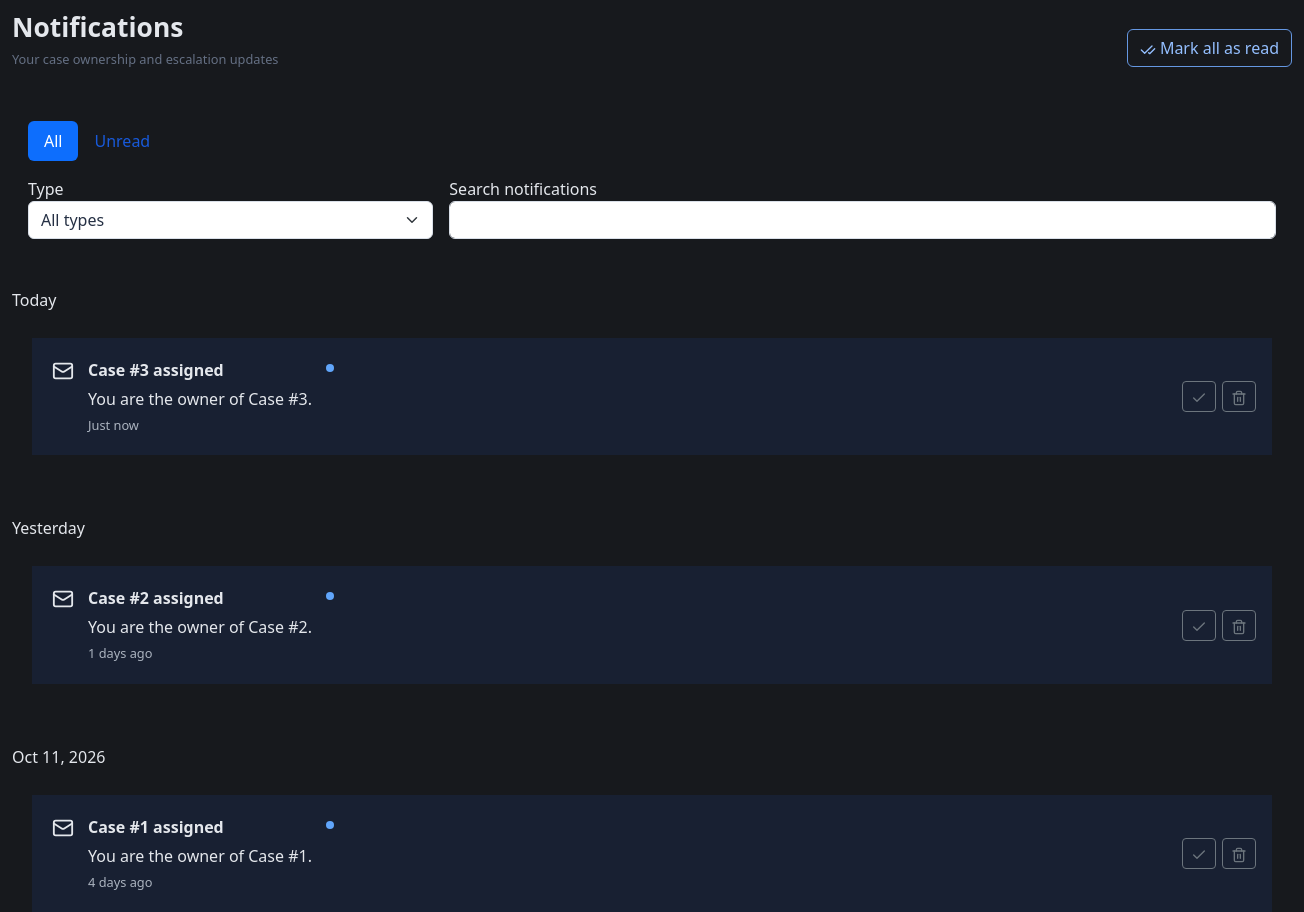
Scenario: supports read, unread and dismiss without navigating
This screenshot has width=1304, height=912.
Expected: the text "Case #3 assigned" is shown, [88,359,224,381]
Click the button named "Mark read: Case #3 assigned": point(1199, 397) [1182,381,1216,412]
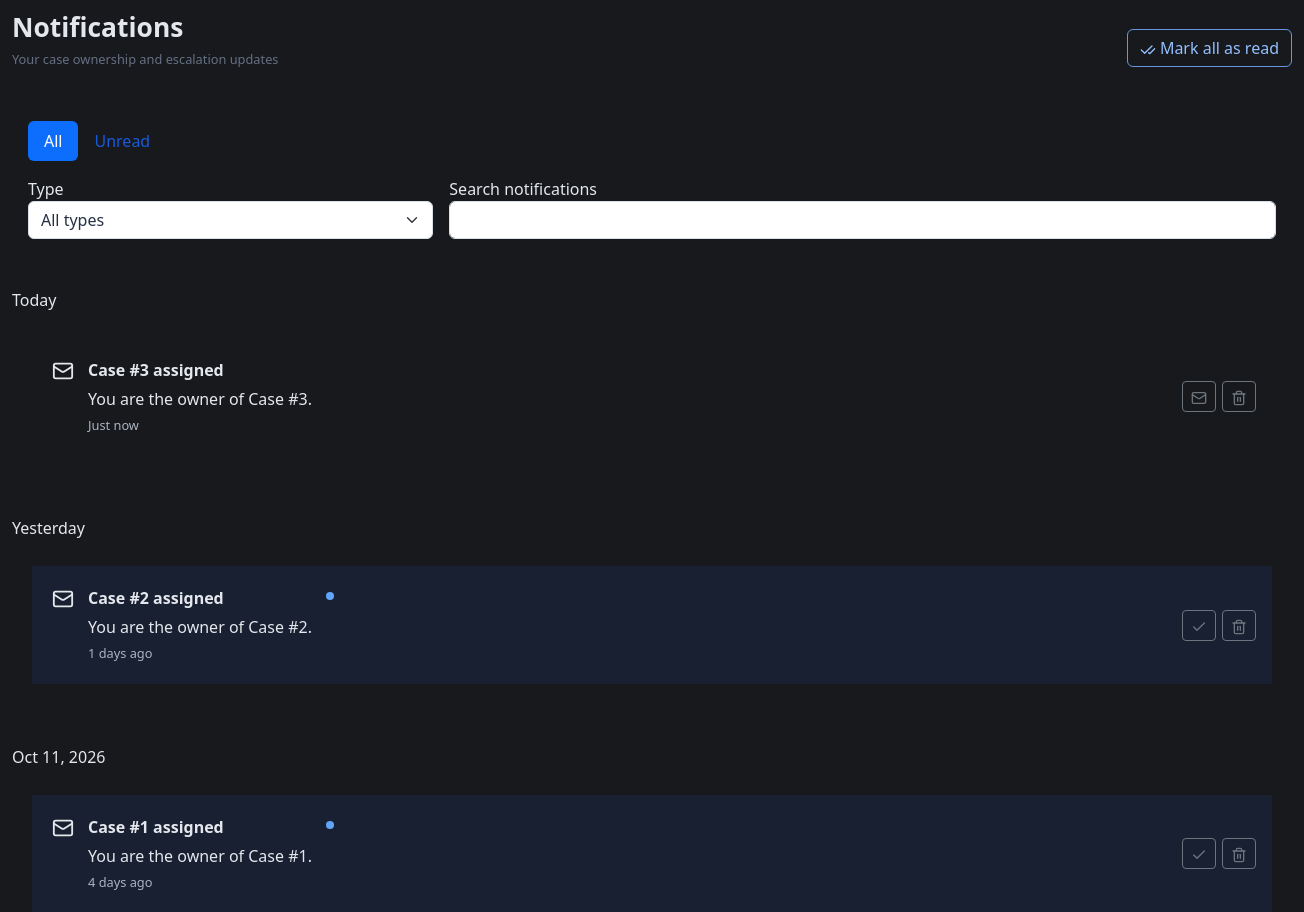
Click the button named "Mark unread: Case #3 assigned": point(1199, 397) [1182,381,1216,412]
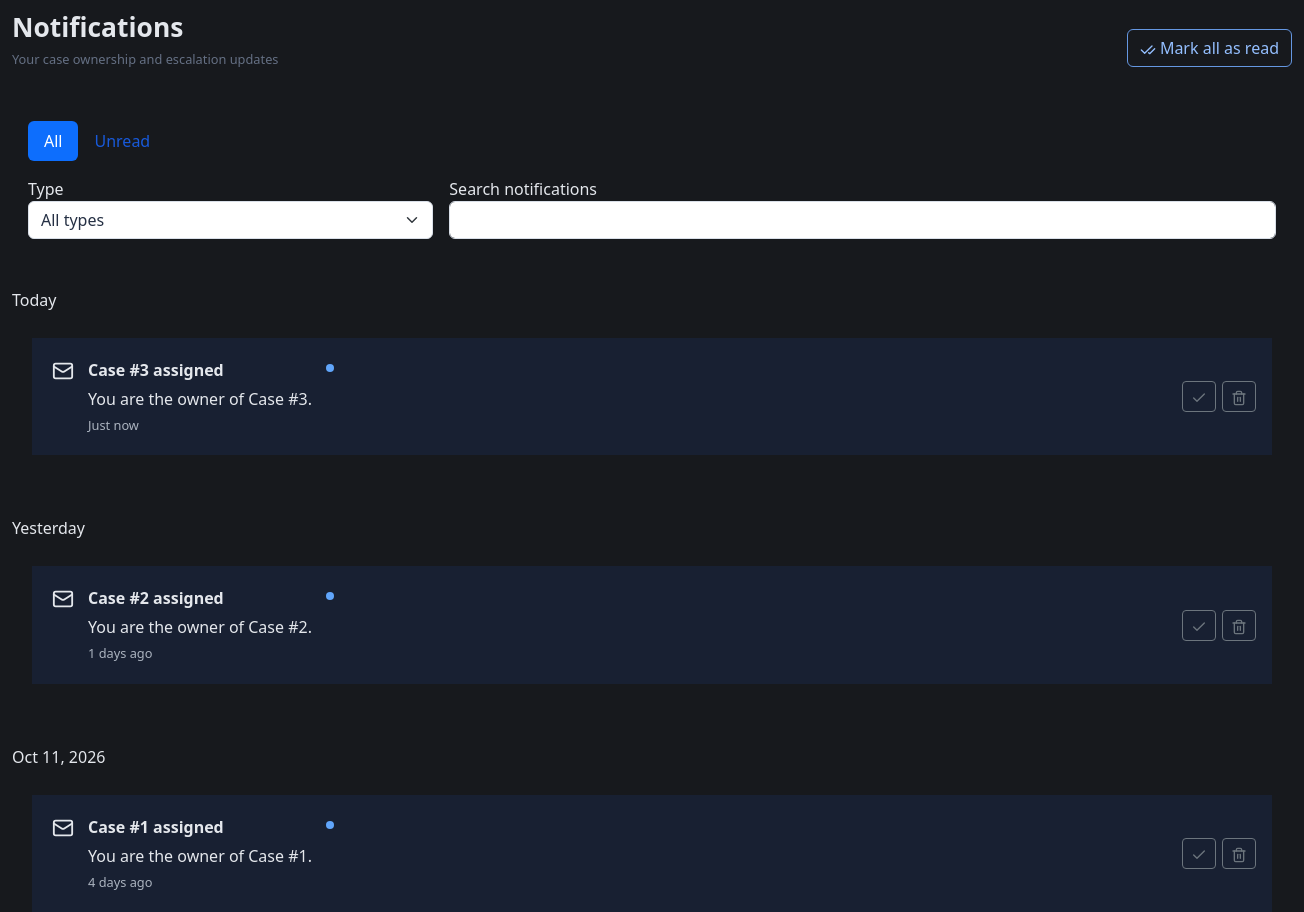
Expected: the button named "Mark read: Case #3 assigned" is shown, [1182,381,1216,412]
Click the button named "Dismiss: Case #3 assigned": point(1239, 397) [1222,381,1256,412]
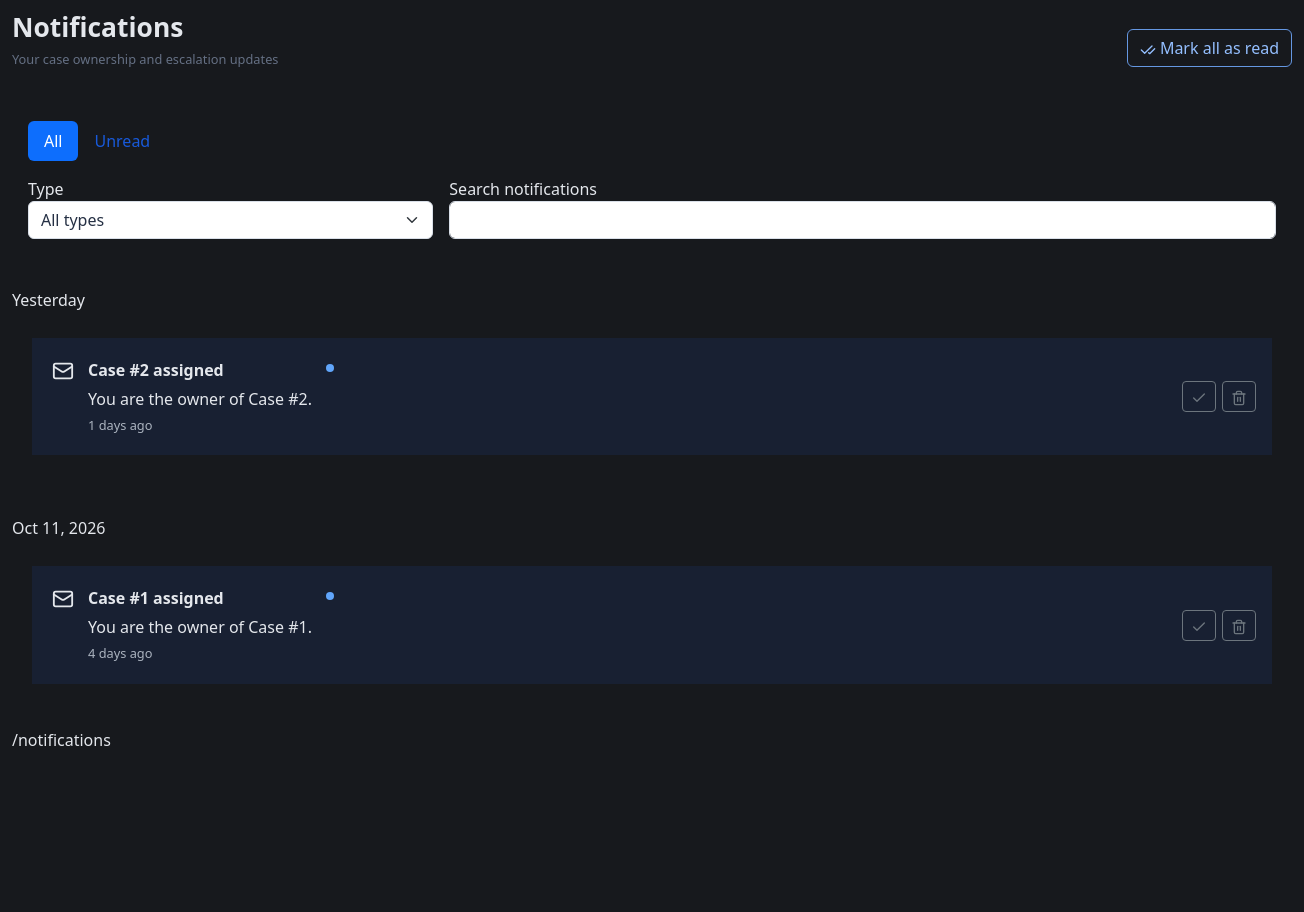
Expected: the text named "Destination" reads "/notifications", [12,729,111,751]
Expected: the button "Case #3 assigned" is gone
